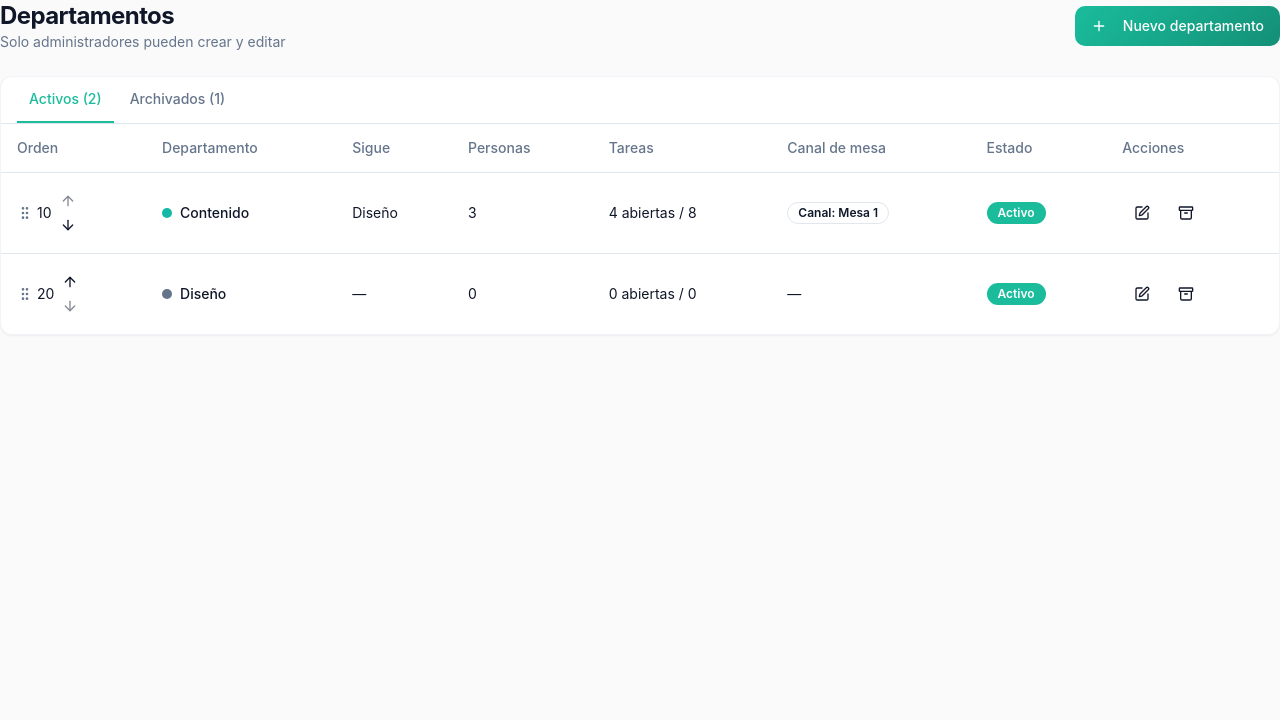
Departamentos · S9 › archiva moviendo al siguiente activo por defecto y muestra el alcance
This screenshot has width=1280, height=720.
Expected: the text "Contenido" is shown, [162,202,249,222]
Click the button named "Archivar Contenido": (1186, 212) [1166,192,1206,232]
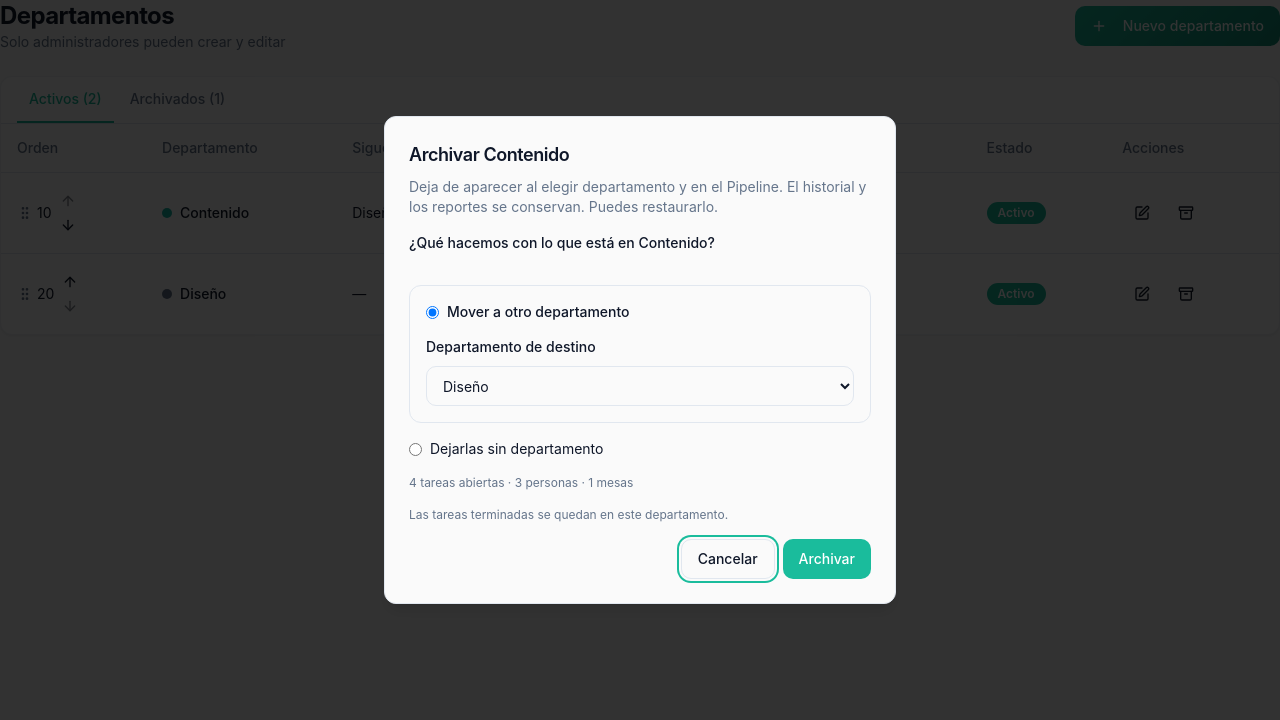
Expected: the heading "Archivar Contenido" is shown, [409,144,569,165]
Expected: the dropdown labelled "Departamento de destino" shows "Diseño", [426,366,854,406]
Expected: the text "4 tareas abiertas · 3 personas · 1 mesas" is shown, [409,475,634,490]
Click the button "Archivar": (827, 559) [783,539,871,579]
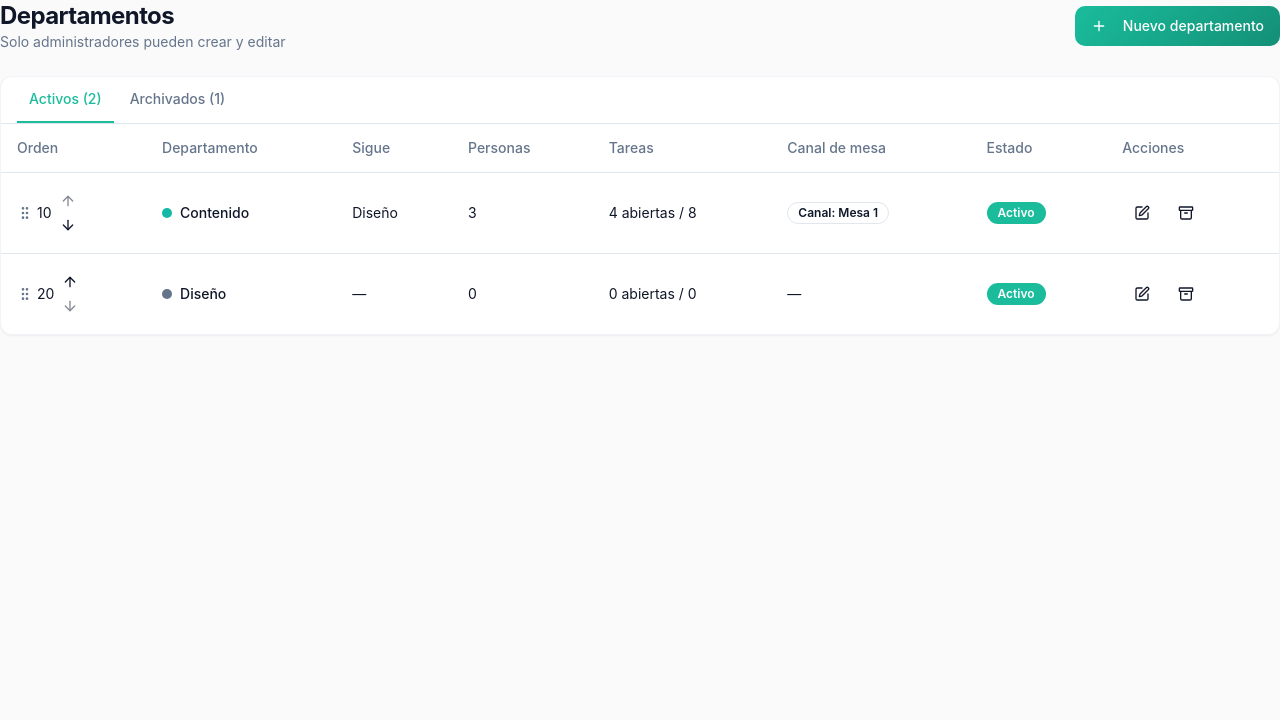
Expected: the dialog is gone
